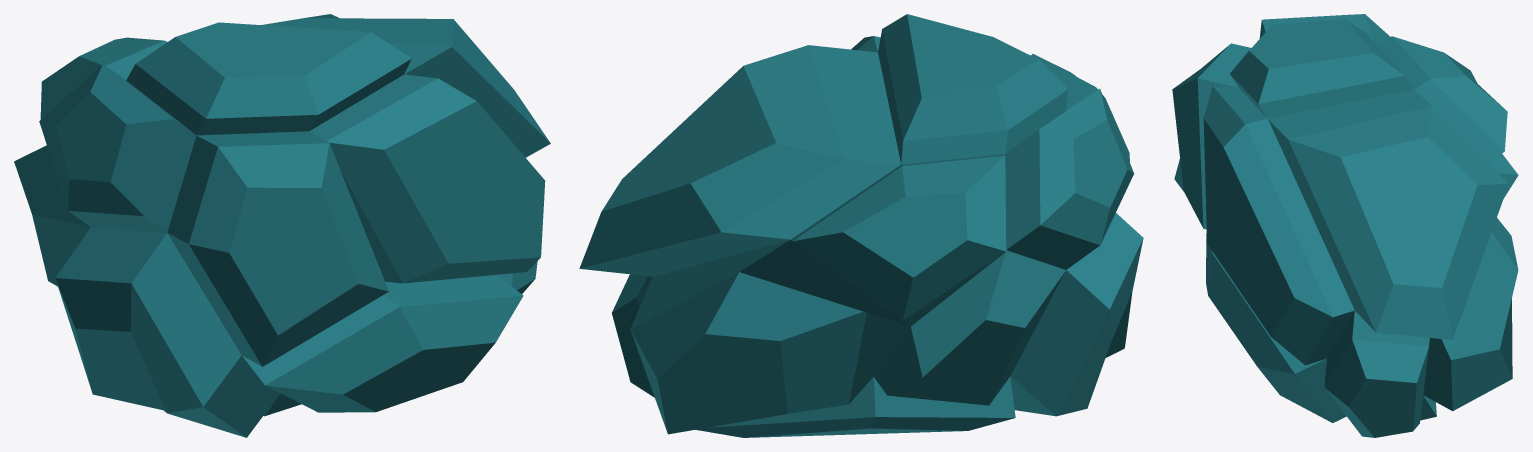
File: large_iceRock.fbx
3 renders of one model, left to right at view 1: azimuth 30°, elevation 25°; view 2: azimuth 150°, elevation 25°; view 3: azimuth 270°, elevation 25°, orthographic. The views are drawn at different scales.
Parts seen in each view (by area): view 1: pSolid3; view 2: pSolid3; view 3: pSolid3.
Boxes of the visible parts, <box> form: pSolid3: <box>14,14,550,437</box>; pSolid3: <box>579,14,1143,437</box>; pSolid3: <box>1172,14,1518,437</box>.
Size of the model in its own units: 125 by 96 by 94.78.
